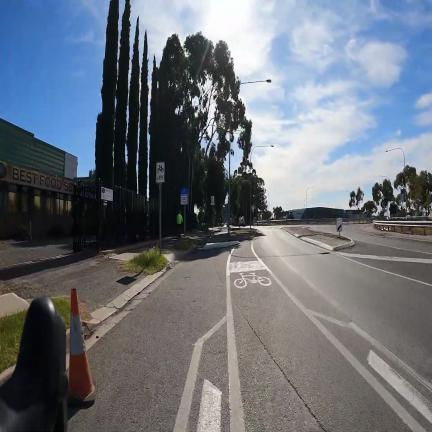Bike_Lane: (230, 268, 425, 432), (232, 242, 262, 266)
Bike_Sign: (156, 162, 165, 208), (181, 188, 188, 208)
